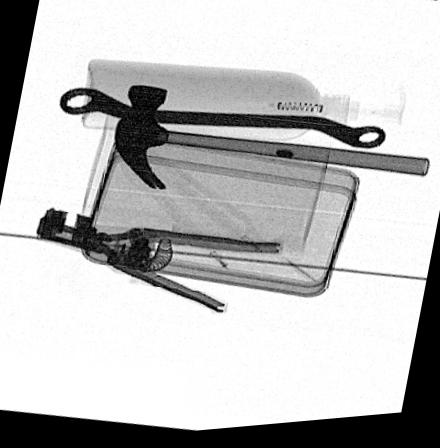Hammer: (113, 87, 433, 194)
Pliers: (31, 206, 288, 323)
Wrench: (57, 90, 389, 154)
